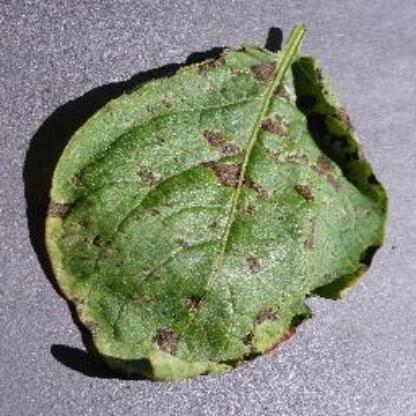Early-Blight: (44, 20, 404, 382)
